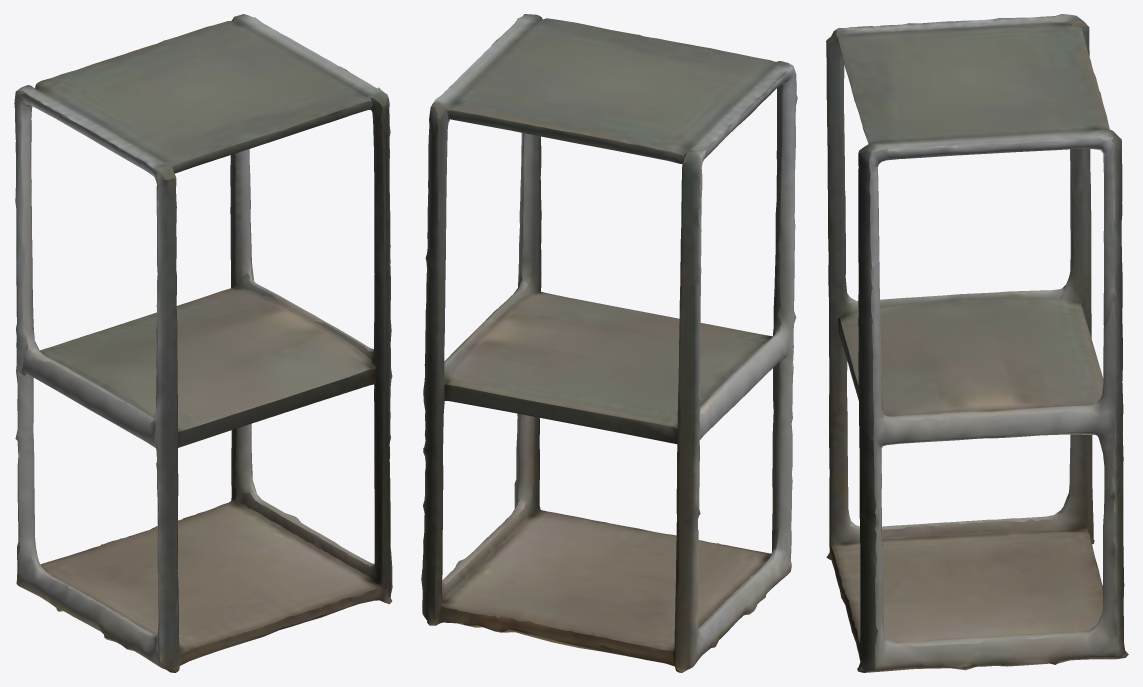
3 views of the same model, side by side, from view 1: azimuth 30°, elevation 25°; view 2: azimuth 150°, elevation 25°; view 3: azimuth 270°, elevation 25° (orthographic). The views are drawn at different scales.
Parts seen in each view (by area): view 1: world; view 2: world; view 3: world.
Part boxes in pixels (x1=…): world: x1=14, y1=14, x2=392, y2=672; world: x1=421, y1=14, x2=797, y2=672; world: x1=826, y1=14, x2=1128, y2=672.
Size of the model in its own units: 0.4912 by 0.8569 by 0.4438.
Materials: 1 (1 with a texture image).
